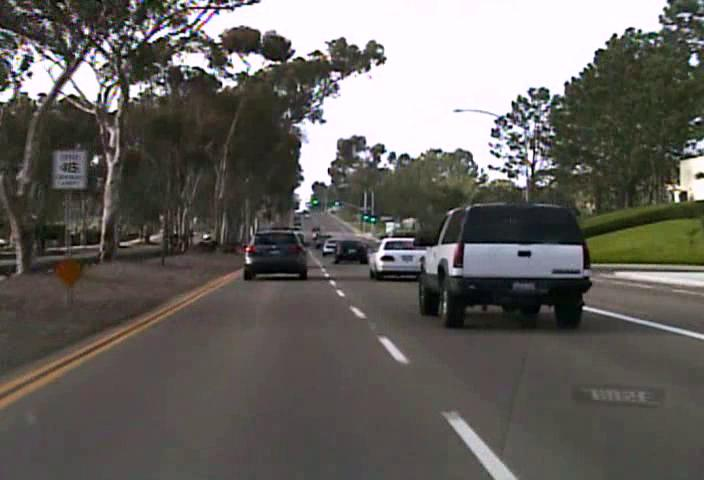speedLimit45: (51, 147, 87, 190)
